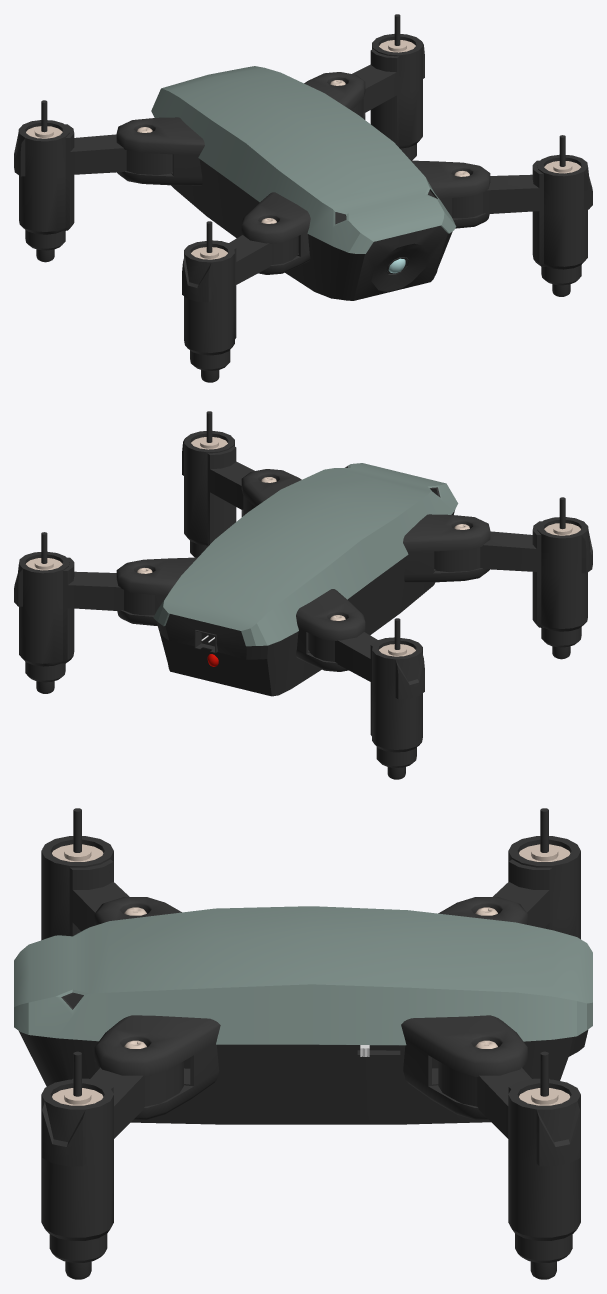
The model's file is drone2.gltf.
3 views of the same model, one above another, from view 1: azimuth 30°, elevation 25°; view 2: azimuth 150°, elevation 25°; view 3: azimuth 270°, elevation 25° (orthographic). The views are drawn at different scales.
Visible parts, largest first — view 1: Cube.002, Circle.001, Circle; view 2: Cube.002, Circle.001, Circle; view 3: Cube.002, Circle.001, Circle.
Boxes of the visible parts, left/top/right/bottom form: Cube.002: left=151, top=66, right=456, bottom=300; Circle.001: left=14, top=14, right=592, bottom=382; Circle: left=116, top=72, right=490, bottom=274; Cube.002: left=153, top=463, right=458, bottom=696; Circle.001: left=14, top=411, right=592, bottom=779; Circle: left=116, top=469, right=490, bottom=671; Cube.002: left=14, top=906, right=592, bottom=1124; Circle.001: left=41, top=808, right=580, bottom=1279; Circle: left=94, top=897, right=527, bottom=1120.
Bounding box in the file's own units: 0.4333 × 0.1629 × 0.3803.
